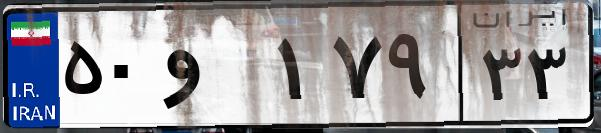0: (110, 28, 158, 98)
1: (270, 28, 330, 110)
3: (475, 38, 525, 113), (525, 38, 570, 115)
5: (57, 26, 110, 100)
7: (330, 28, 385, 110)
9: (385, 28, 445, 110)
و: (158, 20, 270, 120)
